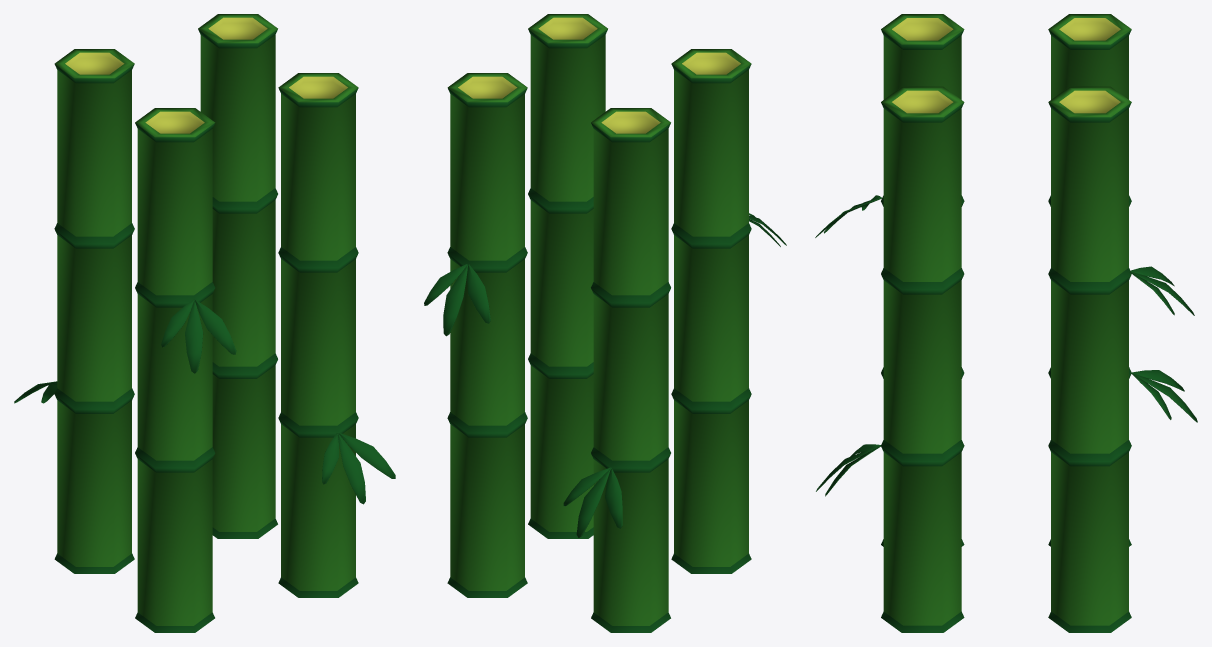
Rendered from Bambuck.fbx.
3 renders of one model, left to right at view 1: azimuth 30°, elevation 25°; view 2: azimuth 150°, elevation 25°; view 3: azimuth 270°, elevation 25°, orthographic. The views are drawn at different scales.
Parts seen in each view (by area): view 1: Cylinder, Plane.003, Plane; view 2: Cylinder, Plane.002, Plane.001; view 3: Cylinder, Plane.001, Plane.002, Plane.
Part boxes in pixels (box(x1,y1,x2,y2)): Cylinder: box(54, 14, 358, 632); Plane.003: box(161, 299, 236, 373); Plane: box(322, 432, 395, 504); Cylinder: box(447, 14, 751, 632); Plane.002: box(424, 264, 490, 336); Plane.001: box(563, 467, 622, 537); Cylinder: box(881, 14, 1131, 632); Plane.001: box(1131, 370, 1197, 422); Plane.002: box(1130, 266, 1194, 315); Plane: box(816, 444, 880, 496).
Bounding box in the file's own units: 4.37 × 9.58 × 6.45.
